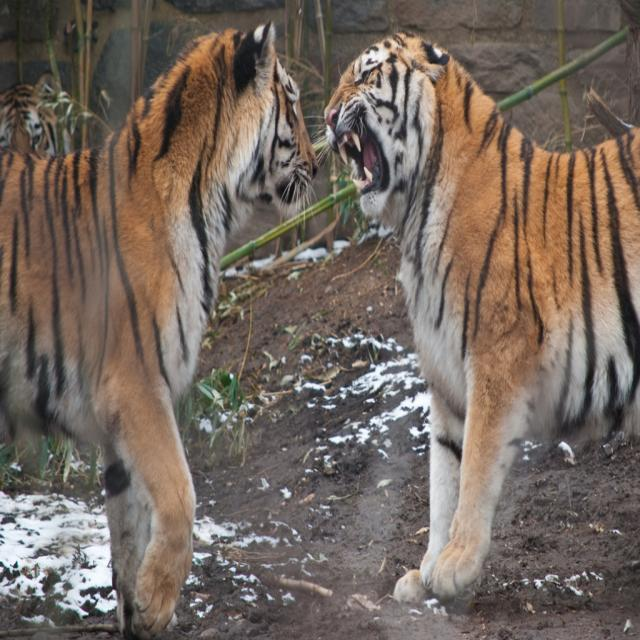Tiger: (0, 22, 313, 631), (322, 36, 640, 596)
